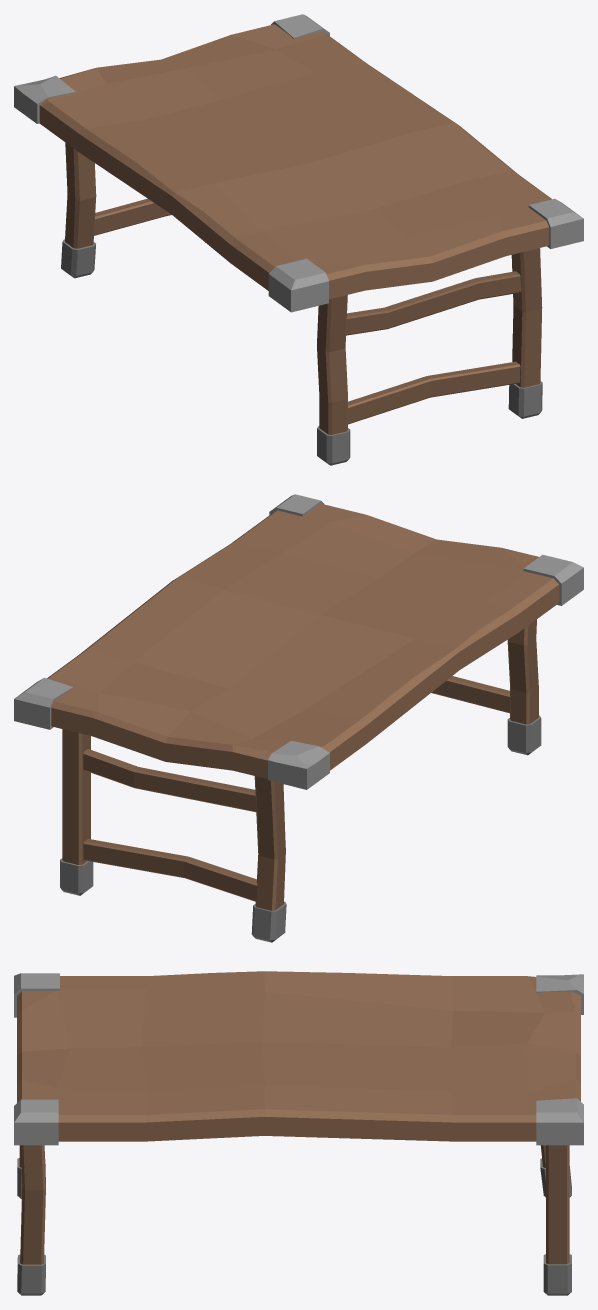
Rendered from Table_01.fbx.
The picture shows the model from 3 angles, top to bottom: view 1: azimuth 30°, elevation 25°; view 2: azimuth 150°, elevation 25°; view 3: azimuth 270°, elevation 25°; orthographic projection. The views are drawn at different scales.
Visible parts, largest first — view 1: Table_01; view 2: Table_01; view 3: Table_01.
Boxes of the visible parts, x1,y1,x2,y2 form: Table_01: (14,14,583,465); Table_01: (14,494,583,942); Table_01: (14,971,583,1295).
Bounding box in the file's own units: 185 × 120 × 304.
Materials: 1 (1 with a texture image).
